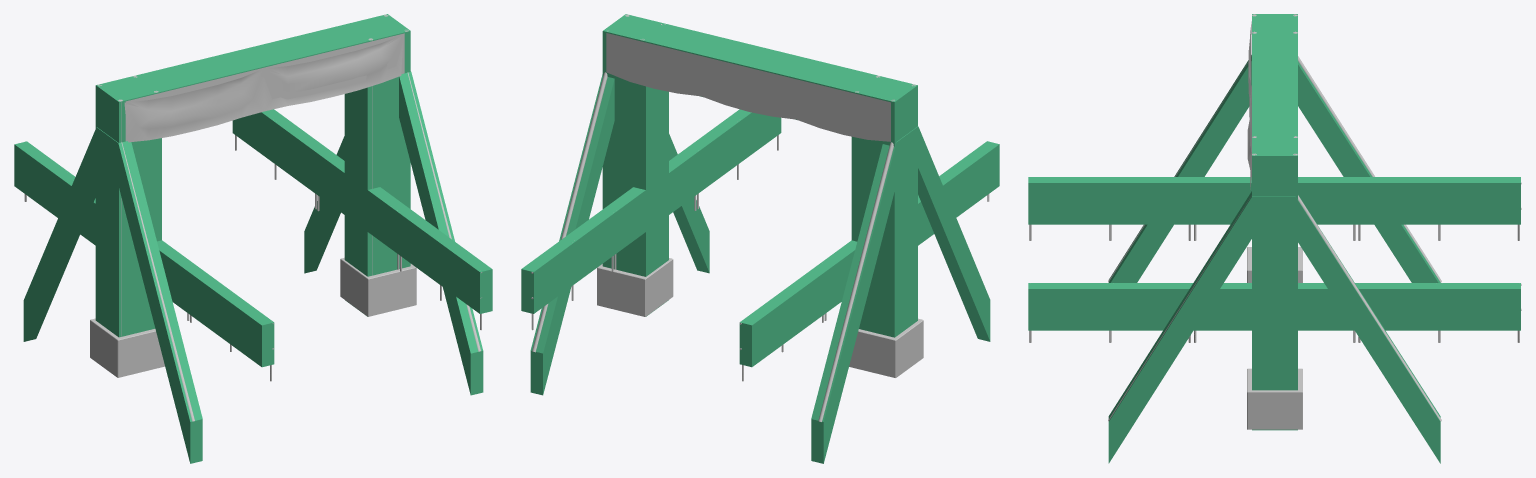
The model's file is race_rally_gate_finish.dae.
The picture shows the model from 3 angles, left to right: view 1: azimuth 30°, elevation 25°; view 2: azimuth 150°, elevation 25°; view 3: azimuth 270°, elevation 25°; orthographic projection.
Parts seen in each view (by area): view 1: Colmesh-1, ind_bld_a500, ind_bld_a150, ind_bld_a30; view 2: Colmesh-1, ind_bld_a500, ind_bld_a30, ind_bld_a150; view 3: Colmesh-1, ind_bld_a500, ind_bld_a150.
Part boxes in pixels (x1,y1,x2,y2): Colmesh-1: (14, 14, 492, 463); ind_bld_a500: (24, 14, 482, 421); ind_bld_a150: (25, 15, 481, 380); ind_bld_a30: (125, 33, 404, 141); Colmesh-1: (521, 14, 999, 463); ind_bld_a500: (531, 14, 989, 421); ind_bld_a30: (606, 33, 890, 141); ind_bld_a150: (531, 15, 922, 379); Colmesh-1: (1028, 14, 1520, 463); ind_bld_a500: (1029, 14, 1521, 429); ind_bld_a150: (1030, 14, 1439, 429).
Bounding box in the file's own units: 8.36 × 12 × 8.26.
